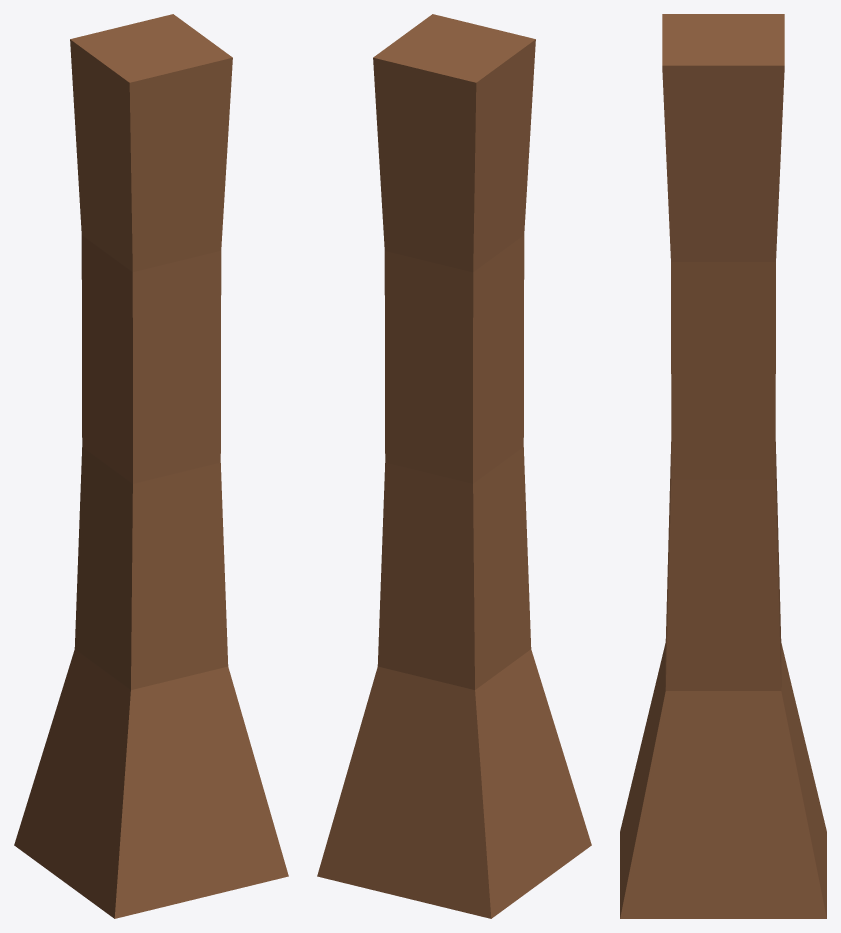
Rendered from tree-dead-trunk-011.glb.
The picture shows the model from 3 angles, left to right: view 1: azimuth 30°, elevation 25°; view 2: azimuth 150°, elevation 25°; view 3: azimuth 270°, elevation 25°; orthographic projection. The views are drawn at different scales.
Visible parts, largest first — view 1: Cube.084_446; view 2: Cube.084_446; view 3: Cube.084_446.
Part boxes in pixels (x1,y1,x2,y2): Cube.084_446: [14, 14, 288, 918]; Cube.084_446: [317, 14, 591, 918]; Cube.084_446: [620, 14, 826, 918].
Size of the model in its own units: 0.1983 by 0.8837 by 0.1983.
